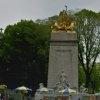Statue: (42, 5, 86, 44)
